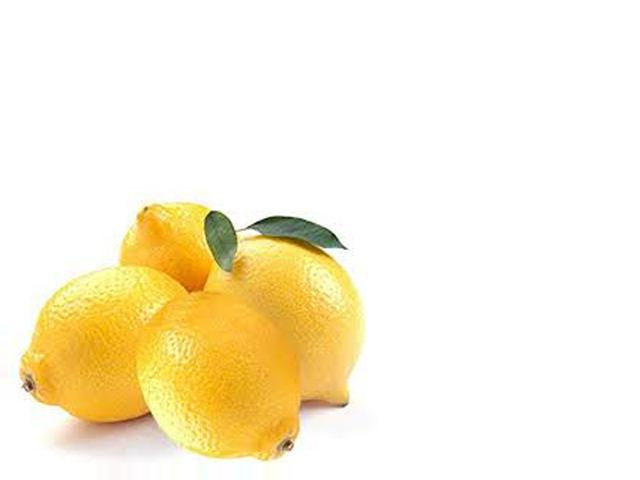lemon: (10, 262, 195, 404)
